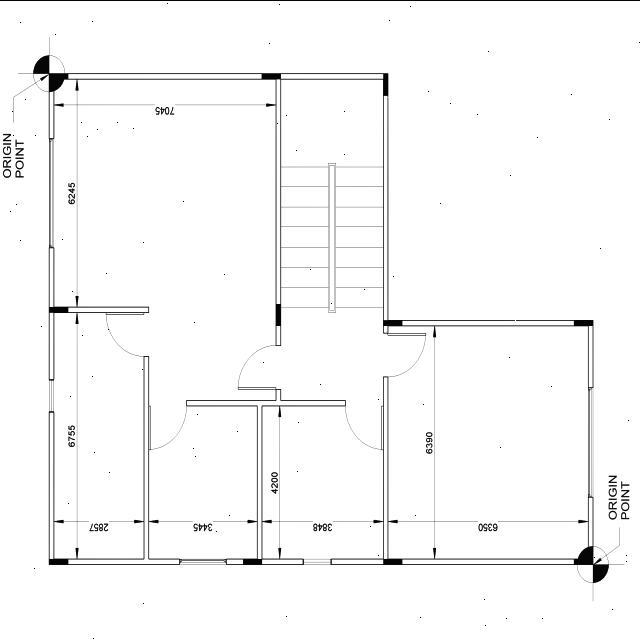Column: (276, 303, 282, 325), (48, 72, 68, 78), (574, 319, 594, 325), (574, 558, 594, 564), (242, 558, 262, 564), (48, 558, 68, 564), (48, 306, 68, 312), (383, 319, 402, 325), (383, 558, 402, 564), (262, 72, 280, 78), (384, 72, 388, 94)
Door: (148, 400, 186, 450), (346, 399, 384, 449), (106, 312, 149, 356), (238, 344, 281, 388), (384, 332, 426, 376)
Staircase: (281, 78, 383, 312)
Window: (49, 137, 54, 247), (588, 386, 593, 496), (179, 558, 227, 564), (49, 378, 54, 412), (303, 558, 331, 564)
